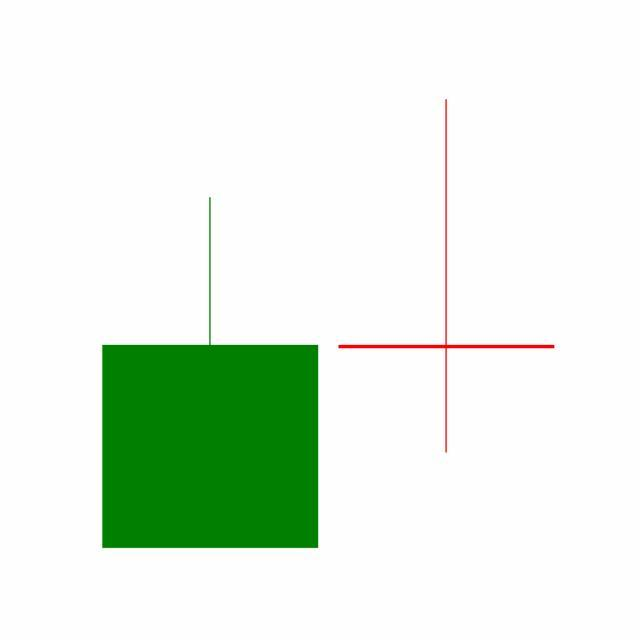Spinning Top: (328, 95, 566, 457)
